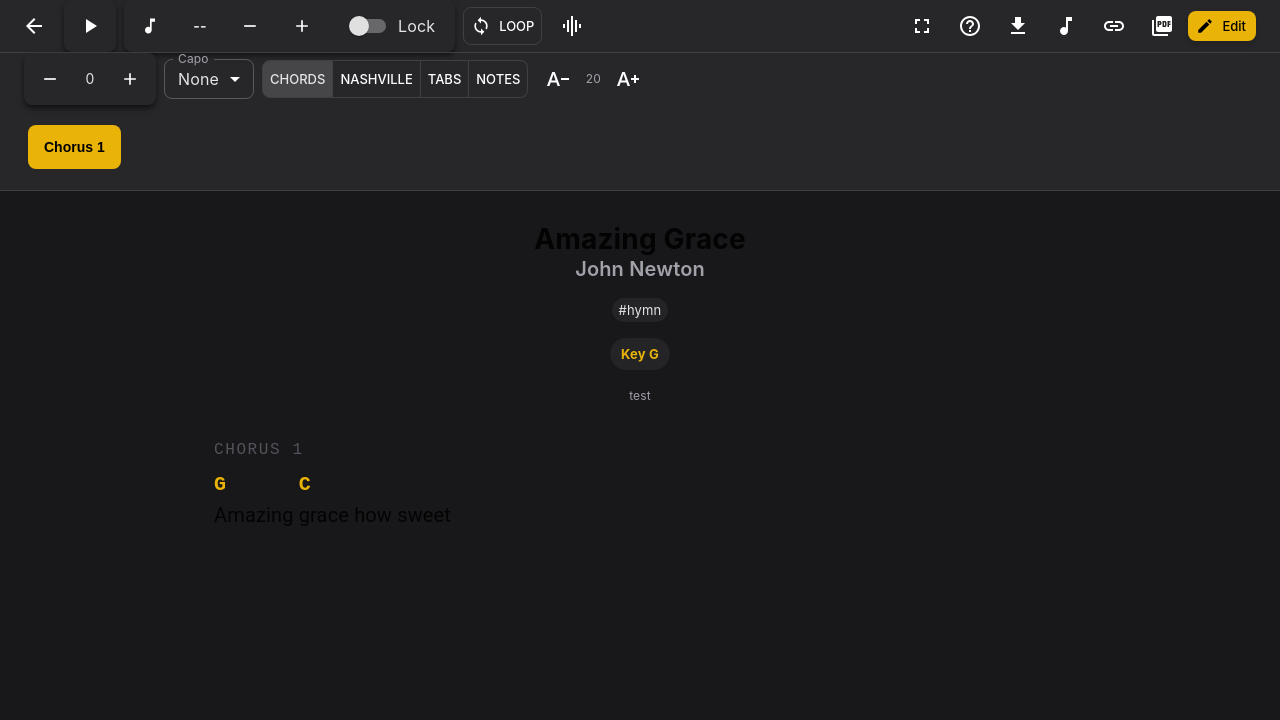
Test: SongViewer › shows the sounding key for the selected capo
The width and height of the screenshot is (1280, 720).
Press the mouse on the dropdown named "Capo position": [198, 78] box [178, 68, 219, 88]
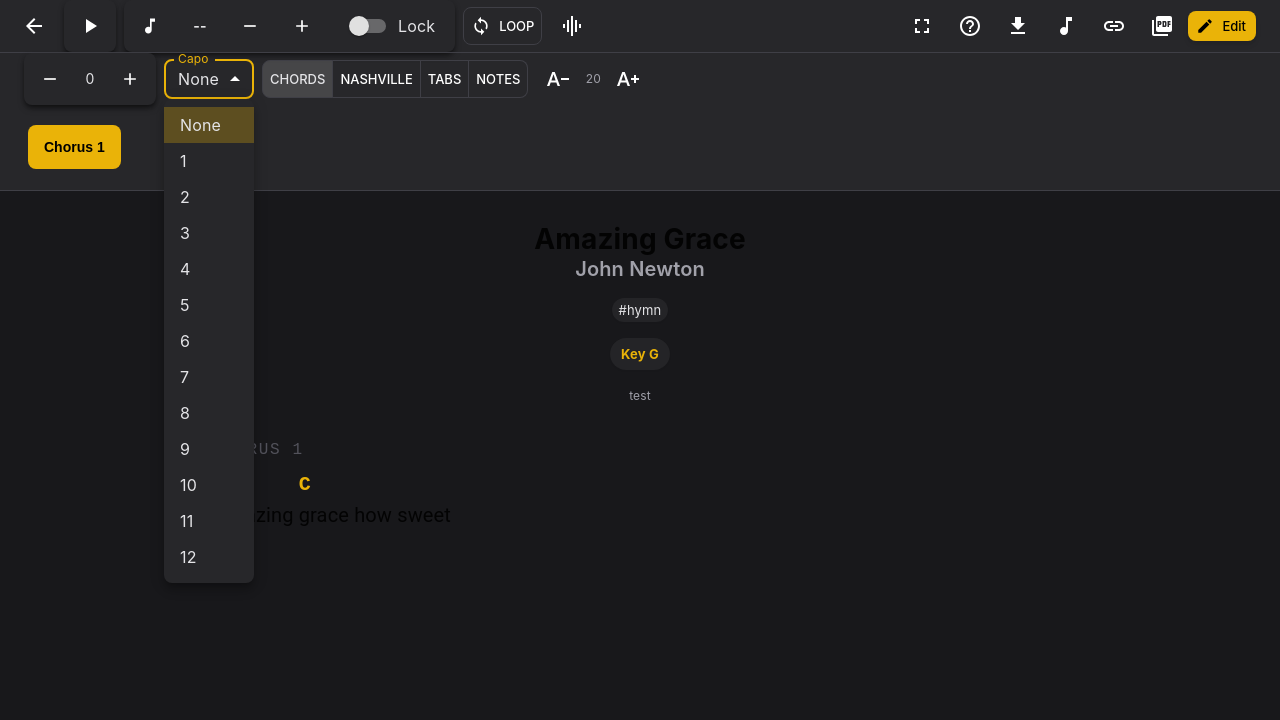
Click the option "2": [185, 197] box [180, 187, 190, 207]
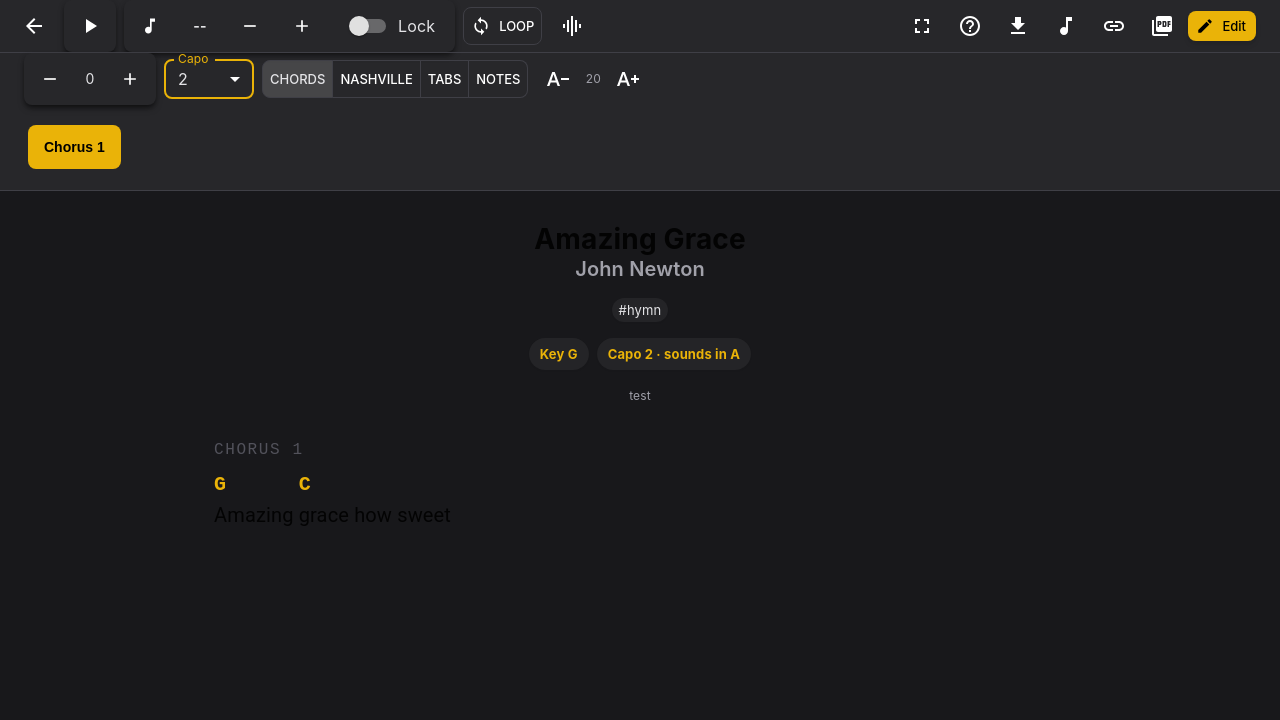
Now the text "Capo 2 · sounds in A" is shown, box [597, 345, 751, 364]
